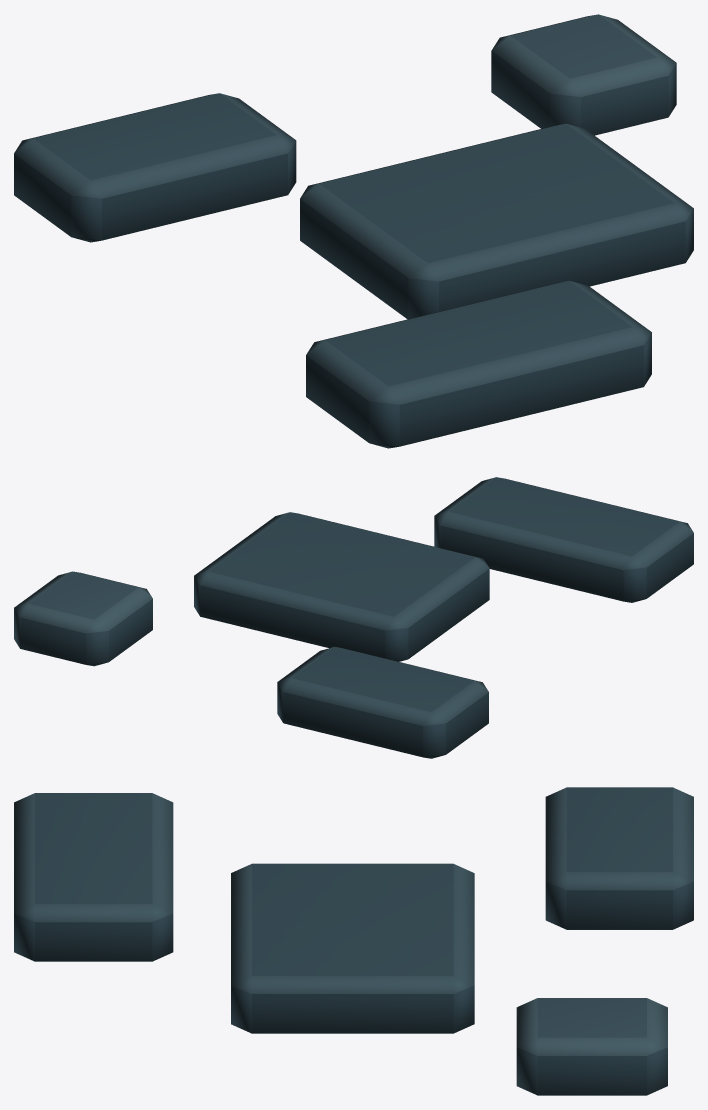
The model's file is stone_path_8.fbx.
The picture shows the model from 3 angles, top to bottom: view 1: azimuth 30°, elevation 25°; view 2: azimuth 150°, elevation 25°; view 3: azimuth 270°, elevation 25°; orthographic projection. The views are drawn at different scales.
Visible parts, largest first — view 1: stone_path_8; view 2: stone_path_8; view 3: stone_path_8.
Boxes of the visible parts, <box> form: stone_path_8: <box>14,14,693,448</box>; stone_path_8: <box>14,477,693,758</box>; stone_path_8: <box>14,787,693,1095</box>.
Size of the model in its own units: 182 by 18.28 by 195.
